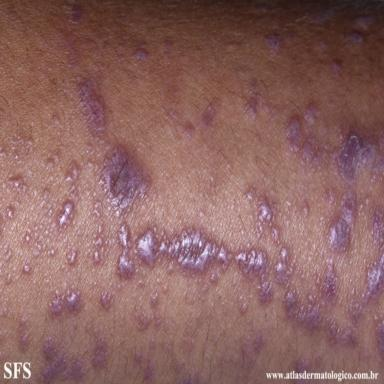lichen: (275, 246, 384, 346), (136, 228, 233, 283), (99, 141, 150, 216), (331, 124, 384, 185), (283, 114, 327, 171), (39, 335, 91, 382), (235, 248, 273, 303), (75, 72, 108, 133), (55, 161, 80, 232), (328, 189, 356, 252), (173, 338, 205, 384), (245, 78, 277, 120), (256, 195, 280, 246), (49, 285, 82, 316), (117, 224, 134, 279), (317, 259, 338, 302), (241, 331, 265, 359), (91, 329, 107, 369), (56, 1, 83, 23), (200, 98, 220, 126), (92, 224, 105, 265), (370, 206, 384, 244), (373, 313, 384, 359), (143, 340, 155, 382), (19, 316, 31, 351), (304, 102, 319, 125), (265, 33, 283, 52), (135, 309, 151, 330), (8, 175, 27, 192), (179, 121, 194, 139), (101, 289, 113, 310), (329, 58, 343, 76), (345, 30, 363, 44), (317, 9, 333, 24), (356, 17, 375, 29), (134, 47, 148, 62), (46, 154, 59, 169), (67, 247, 77, 266), (245, 185, 256, 201), (150, 291, 159, 309), (92, 200, 101, 218), (326, 187, 335, 205), (302, 199, 310, 217), (4, 245, 12, 261), (134, 351, 143, 364), (155, 310, 162, 326), (7, 205, 15, 219), (42, 187, 50, 201), (23, 263, 31, 274), (24, 231, 31, 243), (53, 114, 60, 125), (48, 247, 56, 256), (2, 306, 8, 317), (27, 137, 34, 146), (241, 303, 247, 313), (6, 273, 11, 284)
